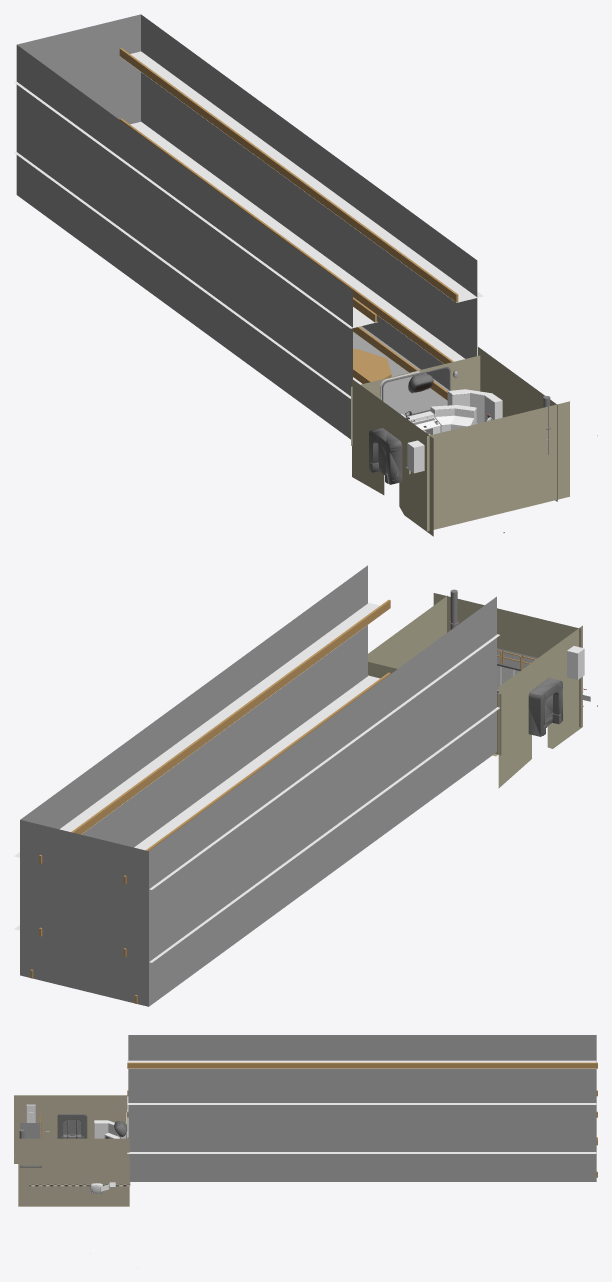
The model's file is map.glb.
The picture shows the model from 3 angles, top to bottom: view 1: azimuth 30°, elevation 25°; view 2: azimuth 150°, elevation 25°; view 3: azimuth 270°, elevation 25°; orthographic projection. The views are drawn at different scales.
Parts seen in each view (by area): view 1: Plane.006, back_wall, Plane.002, Cube.023, Cube.019, Cube.025, Plane.001, Cube.020, Plane, Cube.024, Cube.031, Cube.021 (+4 smaller); view 2: Plane.006, Plane.002, Cube.023, Cube.025, back_wall, Cube.019, Plane.001, Cube.031, Cube.021, Cube.024, Cube.020, Plane; view 3: Plane.006, Plane.001, Plane.002, Cube.026, Cube.024, Cube.023, Cube.019, Cube.031, Cube.008, Cube.003, Cube.045.
Part boxes in pixels (x1,y1,x2,y2): Plane.006: (16,14,477,439); back_wall: (427,401,569,531); Plane.002: (352,379,433,536); Cube.023: (120,51,483,302); Cube.019: (130,122,464,363); Cube.025: (119,48,458,302); Plane.001: (478,347,557,501); Cube.020: (119,118,453,363); Plane: (351,355,480,445); Cube.024: (14,81,377,328); Cube.031: (369,428,402,484); Cube.021: (14,152,361,398); Plane.006: (20,565,496,1006); Plane.002: (498,625,582,788); Cube.023: (14,602,388,857); Cube.025: (39,599,390,863); back_wall: (433,593,581,727); Cube.019: (14,675,379,930); Plane.001: (368,595,447,668); Cube.031: (528,678,562,736); Cube.021: (149,707,499,962); Cube.024: (149,634,499,889); Cube.020: (39,672,390,936); Plane: (368,662,501,755); Plane.006: (128,1035,596,1181); Plane.001: (18,1138,129,1206); Plane.002: (14,1095,127,1163); Cube.026: (127,1062,597,1068); Cube.024: (127,1059,596,1068); Cube.023: (127,1096,596,1104); Cube.019: (127,1152,596,1153); Cube.031: (57,1114,87,1138); Cube.008: (94,1120,127,1138); Cube.003: (20,1122,41,1167); Cube.045: (63,1120,81,1138).
Bounding box in the file's own units: 28 × 23.49 × 70.56.
29 materials, 9 textured.
